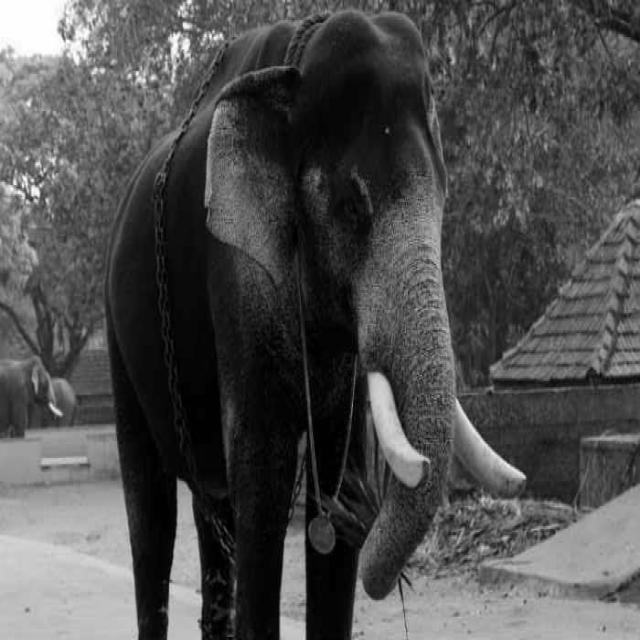Elephant: (84, 40, 516, 574)
